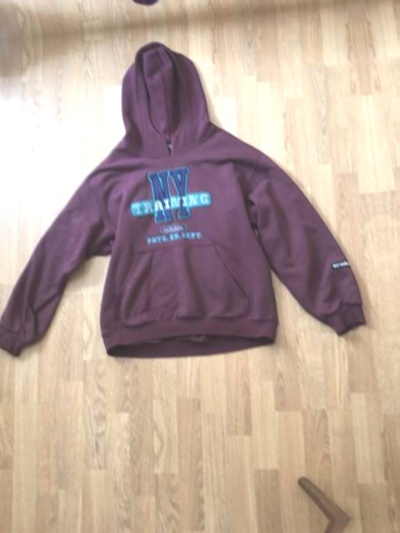Hoodie: (0, 17, 378, 412), (0, 0, 333, 31), (379, 0, 400, 364)
